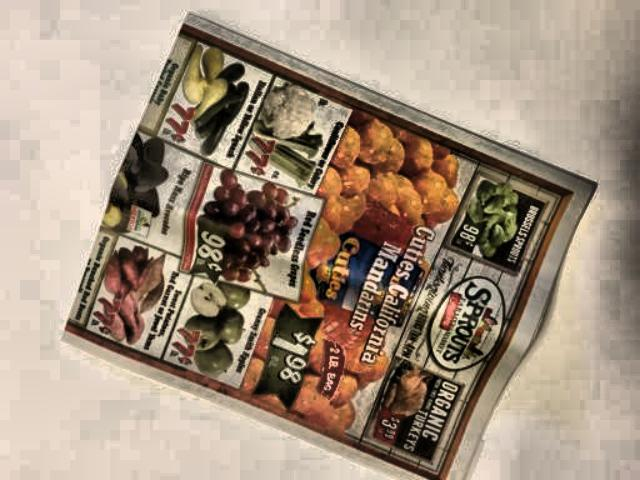Paper: (63, 7, 594, 480)
